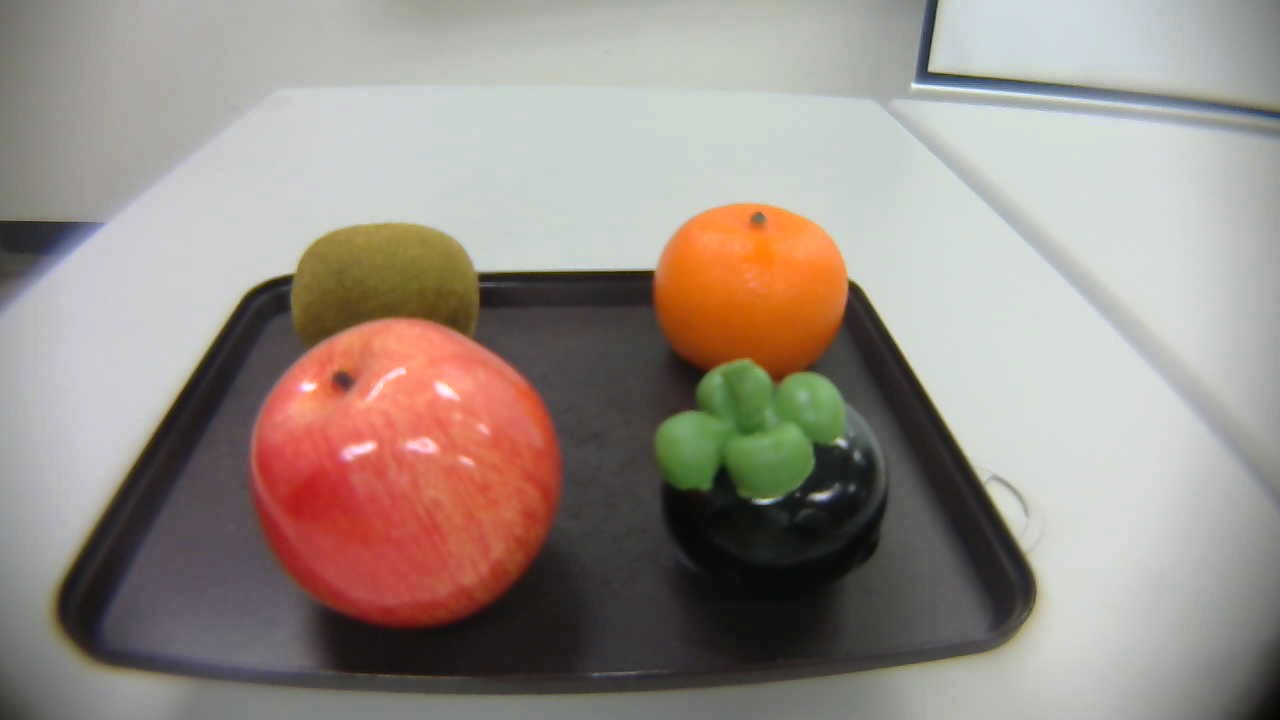kiwi fruit: (278, 223, 488, 344)
mangosteen: (651, 356, 904, 615)
orange: (653, 203, 853, 383)
red apple: (245, 308, 572, 644)
